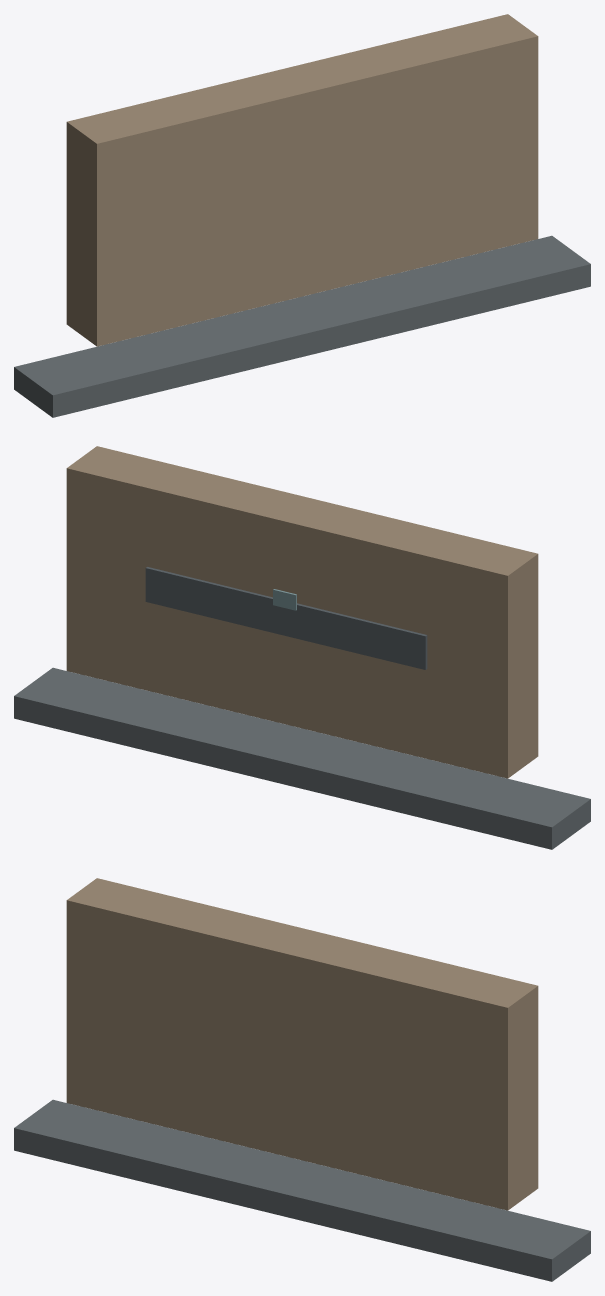
File: iz3_military_hangar_02.glb
The picture shows the model from 3 angles, top to bottom: view 1: azimuth 30°, elevation 25°; view 2: azimuth 150°, elevation 25°; view 3: azimuth 330°, elevation 25°; orthographic projection.
Parts seen in each view (by area): view 1: cabinet, base; view 2: cabinet, base, panel; view 3: cabinet, base.
Boxes of the visible parts, x1,y1,x2,y2 form: cabinet: (66, 14, 538, 346); base: (14, 235, 590, 417); cabinet: (66, 446, 538, 778); base: (14, 667, 590, 849); panel: (145, 567, 427, 669); cabinet: (66, 878, 538, 1210); base: (14, 1099, 590, 1281).
Size of the model in its own units: 8 by 3.68 by 1.
